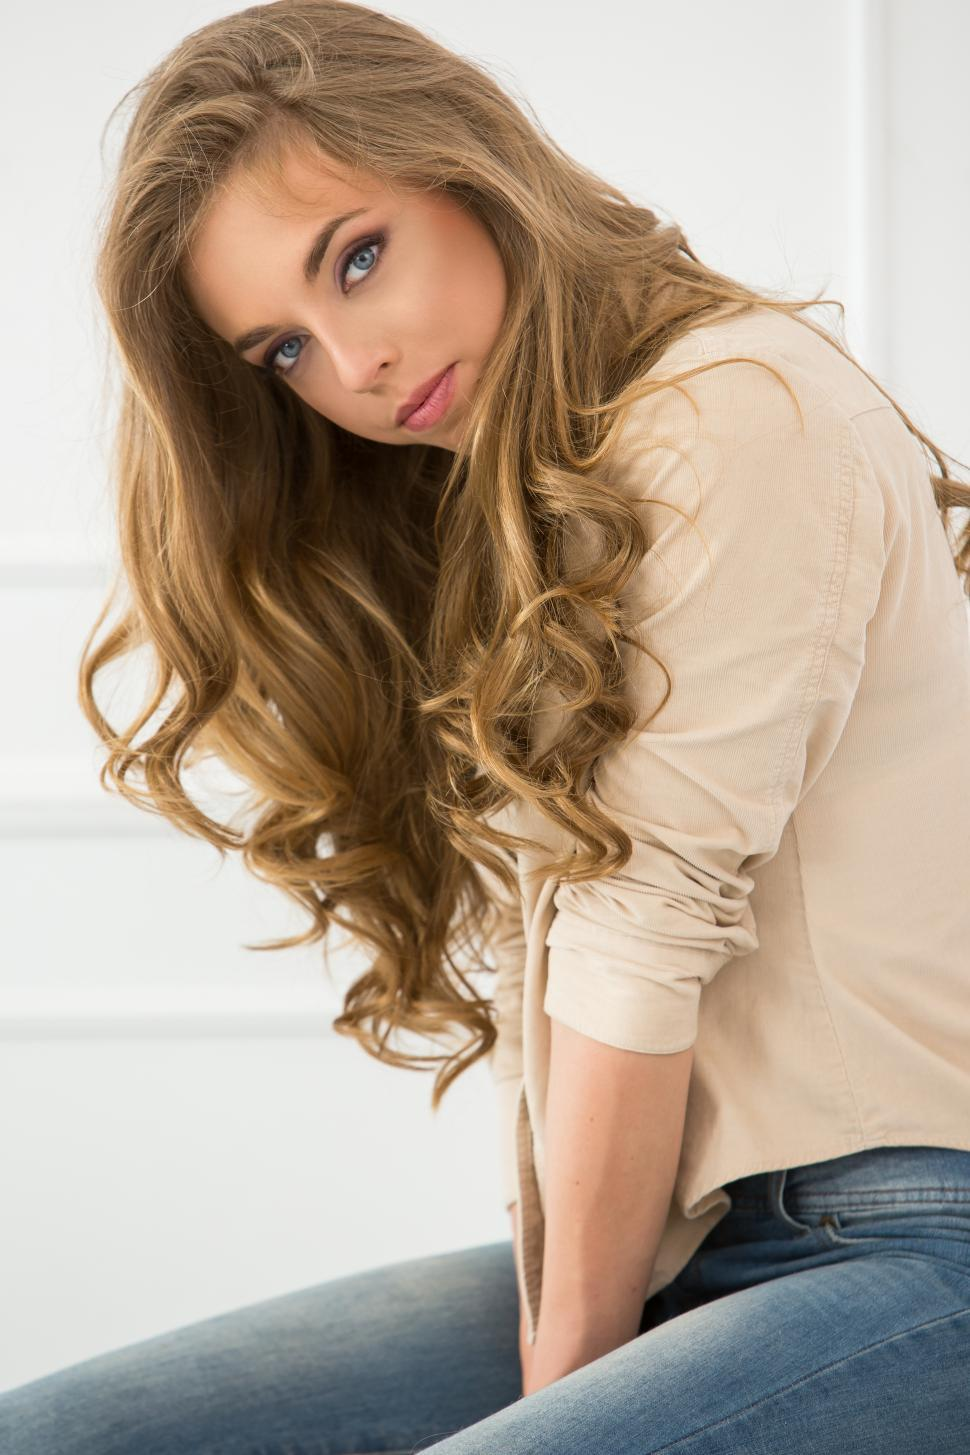GIRL: (119, 67, 577, 498)
